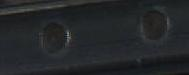joints: (136, 5, 174, 44), (35, 19, 71, 56)
